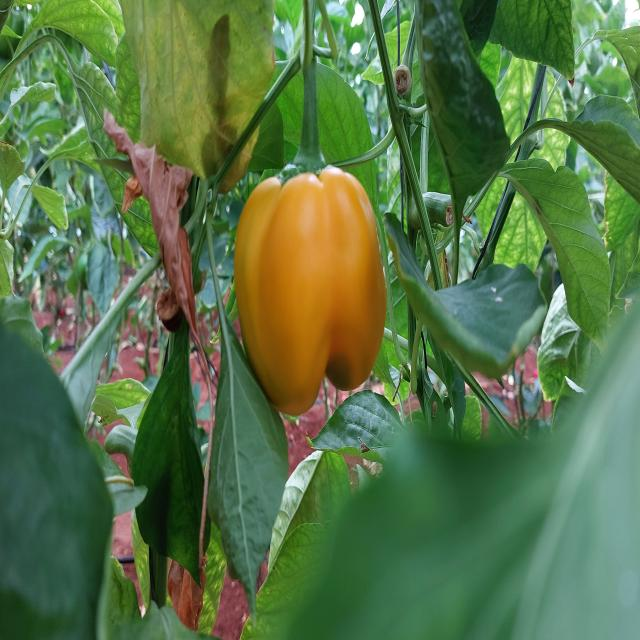Yellow-Ready-to-Harvest: (231, 165, 392, 420)
